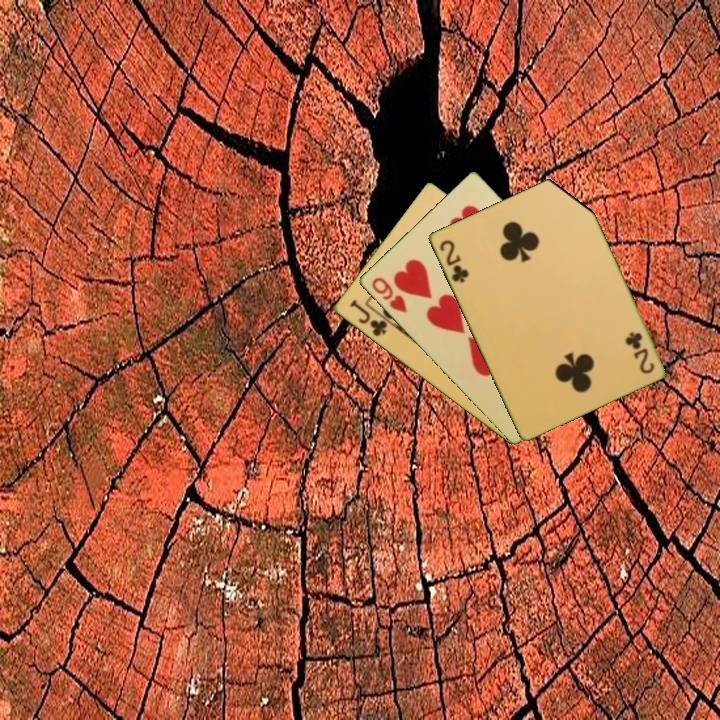2c: (436, 236, 471, 286), (622, 328, 657, 377)
9h: (368, 274, 409, 316)
Jc: (346, 296, 390, 340)
